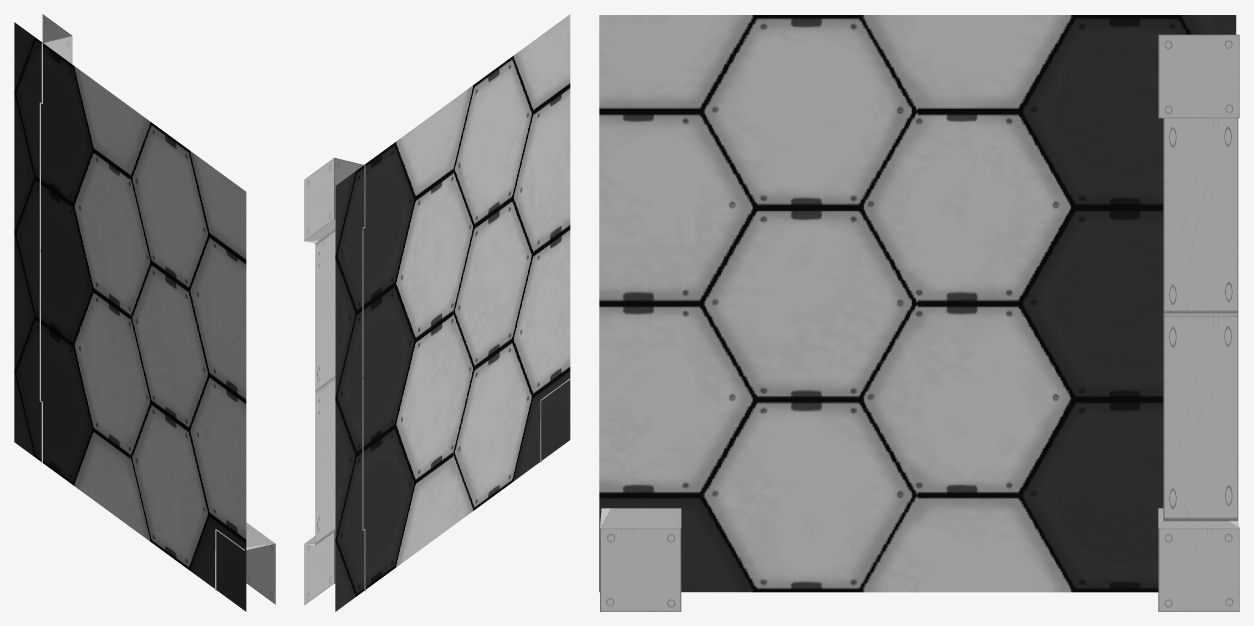
Rendered from Wall_RightBCorner.fbx.
The picture shows the model from 3 angles, left to right: view 1: azimuth 30°, elevation 25°; view 2: azimuth 150°, elevation 25°; view 3: azimuth 270°, elevation 25°; orthographic projection. The views are drawn at different scales.
Visible parts, largest first — view 1: pPlane130; view 2: pPlane130; view 3: pPlane130.
Part boxes in pixels (x1,y1,x2,y2): pPlane130: [14, 14, 275, 611]; pPlane130: [304, 14, 570, 611]; pPlane130: [599, 15, 1239, 611].
Bounding box in the file's own units: 0.1534 × 2 × 2.01.
